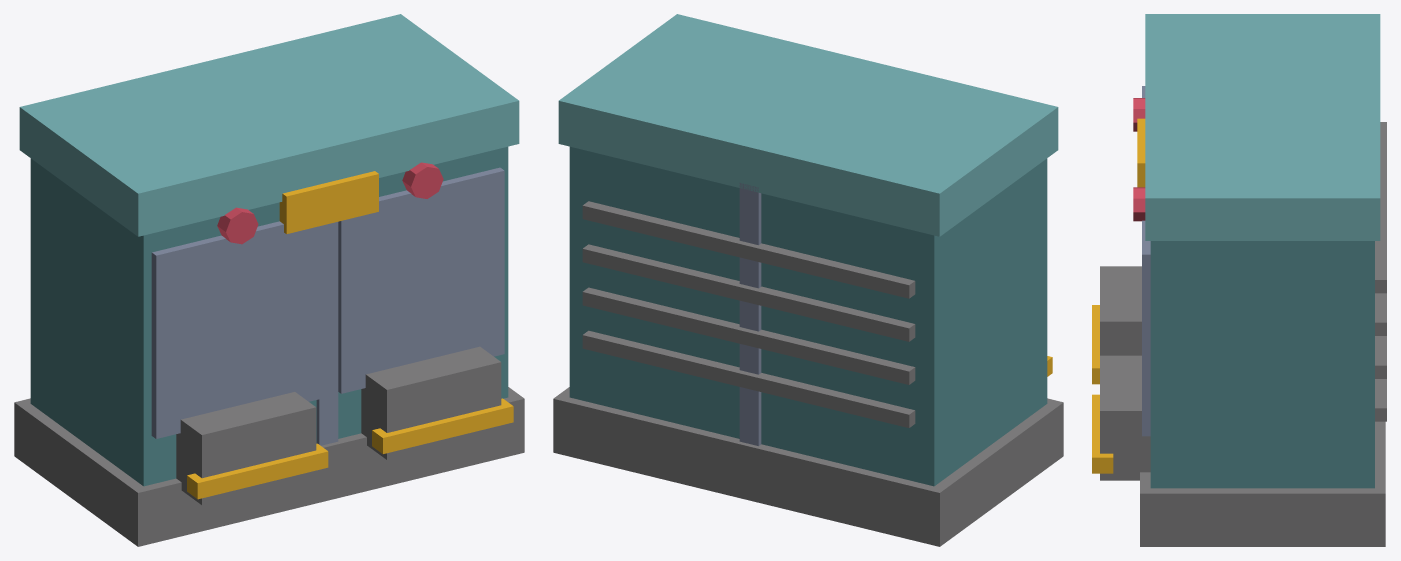
Rendered from incubator_double.glb.
The picture shows the model from 3 angles, left to right: view 1: azimuth 30°, elevation 25°; view 2: azimuth 150°, elevation 25°; view 3: azimuth 270°, elevation 25°; orthographic projection.
Visible parts, largest first — view 1: incubator_double; view 2: incubator_double; view 3: incubator_double.
Part boxes in pixels (x1,y1,x2,y2): incubator_double: (14, 14, 524, 546); incubator_double: (553, 14, 1063, 546); incubator_double: (1092, 14, 1386, 546).
Bounding box in the file's own units: 1.5 × 1.3 × 1.
